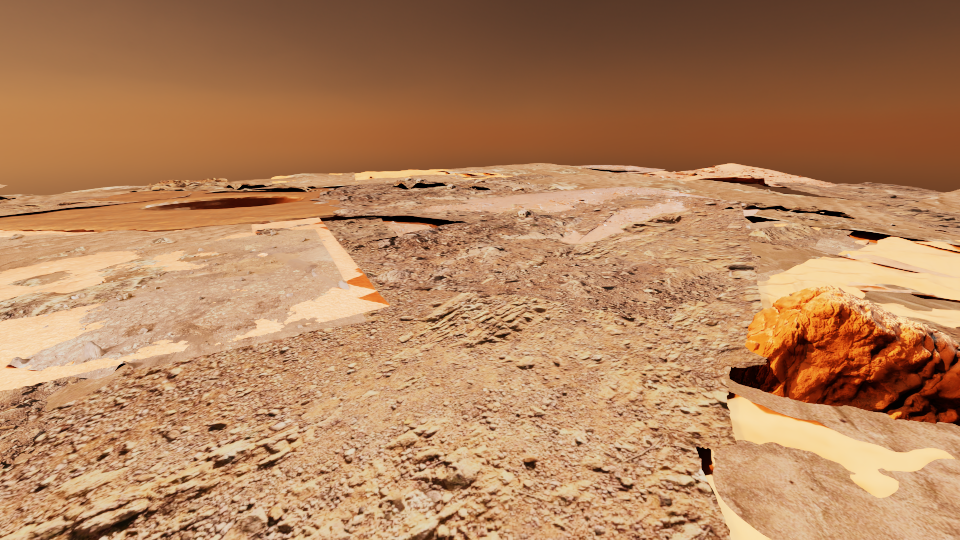bedrock: (0, 228, 364, 468), (310, 175, 741, 349), (0, 424, 508, 539), (775, 182, 959, 234), (744, 217, 865, 257), (741, 201, 895, 226), (128, 178, 317, 192), (901, 316, 959, 348), (0, 200, 124, 211), (751, 254, 784, 281), (0, 234, 66, 246), (584, 166, 638, 171), (24, 445, 46, 456), (457, 169, 493, 173), (749, 189, 781, 193), (660, 191, 688, 195), (571, 189, 597, 193), (71, 293, 85, 298), (609, 192, 626, 195), (447, 175, 462, 178)
hole: (139, 194, 303, 210)
rocks: (729, 286, 959, 425)
sand: (226, 163, 959, 325), (0, 218, 389, 390), (696, 366, 959, 539), (46, 365, 128, 410), (0, 186, 145, 204), (906, 189, 959, 212), (232, 318, 283, 340), (14, 453, 31, 463), (206, 186, 232, 192)
soil: (0, 187, 766, 539), (0, 186, 376, 231), (652, 166, 839, 187), (579, 165, 664, 175), (915, 266, 957, 277), (619, 233, 651, 241), (378, 216, 410, 221), (765, 181, 786, 187), (742, 177, 757, 183), (441, 221, 463, 224)
